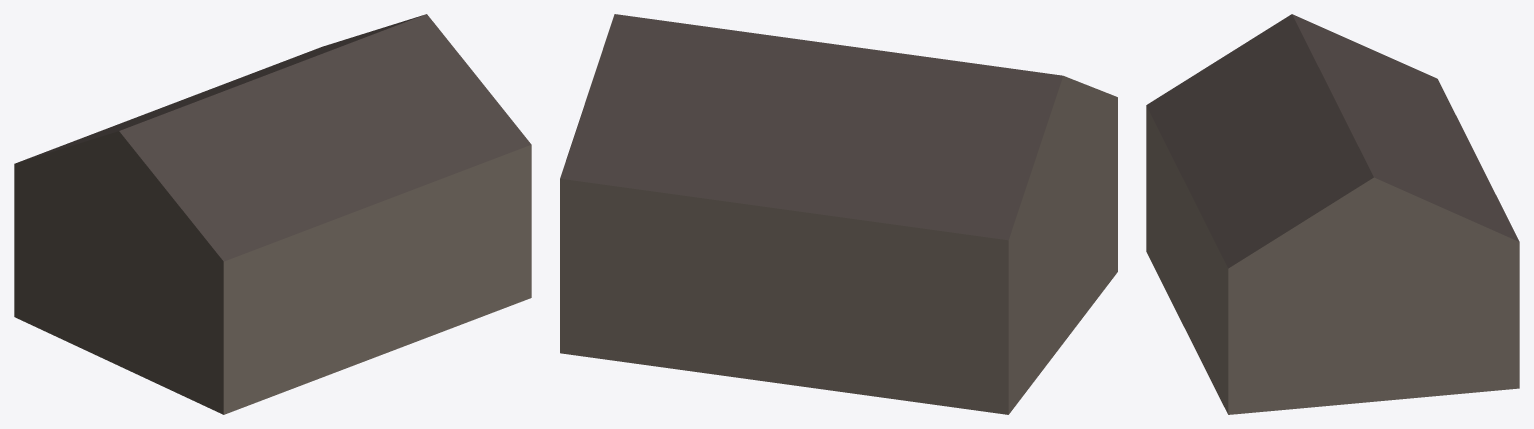
3 views of the same model, side by side, from view 1: azimuth 30°, elevation 25°; view 2: azimuth 150°, elevation 25°; view 3: azimuth 270°, elevation 25° (orthographic). The views are drawn at different scales.
Parts seen in each view (by area): view 1: HP-w1376988858; view 2: HP-w1376988858; view 3: HP-w1376988858.
Part boxes in pixels (x1,y1,x2,y2): HP-w1376988858: (14,14,531,414); HP-w1376988858: (560,14,1117,414); HP-w1376988858: (1146,14,1519,414).
Bounding box in the file's own units: 16.69 × 9.2 × 13.88.
